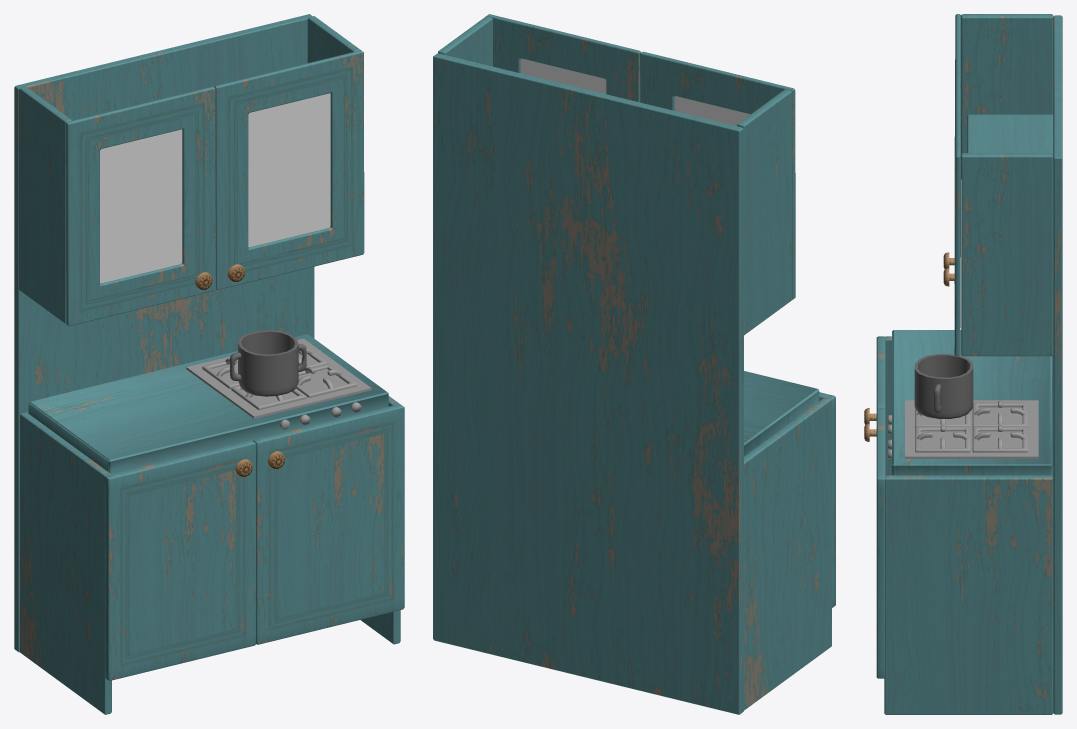
The model's file is Stove.fbx.
3 renders of one model, left to right at view 1: azimuth 30°, elevation 25°; view 2: azimuth 150°, elevation 25°; view 3: azimuth 270°, elevation 25°, orthographic. The views are drawn at different scales.
Parts seen in each view (by area): view 1: Cabinet_FrontA.004, Cabinet_FrontGlass_A.005, Cabinet_Back_A.006, Cabinet_Side_B.005, Cabinet_Shelf_A.004, Cabinet_Side_C.005, Cube.004, Cube, Cabinet_Side_C.006, Cabinet_Side_B.006, Cube.001; view 2: Cabinet_Back_A.006, Cabinet_Side_B.005, Cabinet_FrontGlass_A.005, Cabinet_Side_C.005, Cabinet_Shelf_A.004, Cabinet_Side_C.006, Cabinet_FrontA.004; view 3: Cabinet_Side_B.006, Cabinet_Side_C.006, Cabinet_Shelf_A.004, Cabinet_Side_C.005, Cabinet_Back_A.006, Cube, Cube.004, Cabinet_Shelf_B.005, Cabinet_FrontA.004, Cabinet_FrontGlass_A.005, Cabinet_Side_B.005, Cube.001 (+3 smaller).
Part boxes in pixels (x1=…): Cabinet_FrontA.004: x1=104, y1=404, x2=404, y2=680; Cabinet_FrontGlass_A.005: x1=66, y1=50, x2=364, y2=326; Cabinet_Back_A.006: x1=14, y1=14, x2=314, y2=652; Cabinet_Side_B.005: x1=20, y1=412, x2=111, y2=714; Cabinet_Shelf_A.004: x1=28, y1=334, x2=388, y2=474; Cabinet_Side_C.005: x1=19, y1=86, x2=71, y2=323; Cube.004: x1=230, y1=330, x2=306, y2=396; Cube: x1=186, y1=338, x2=371, y2=418; Cabinet_Side_C.006: x1=307, y1=16, x2=360, y2=62; Cabinet_Side_B.006: x1=361, y1=396, x2=400, y2=644; Cube.001: x1=296, y1=363, x2=356, y2=397; Cabinet_Back_A.006: x1=433, y1=53, x2=743, y2=714; Cabinet_Side_B.005: x1=744, y1=397, x2=831, y2=710; Cabinet_FrontGlass_A.005: x1=486, y1=14, x2=795, y2=299; Cabinet_Side_C.005: x1=737, y1=89, x2=792, y2=335; Cabinet_Shelf_A.004: x1=744, y1=371, x2=819, y2=456; Cabinet_Side_C.006: x1=438, y1=16, x2=492, y2=66; Cabinet_FrontA.004: x1=819, y1=392, x2=835, y2=607; Cabinet_Side_B.006: x1=884, y1=475, x2=1053, y2=714; Cabinet_Side_C.006: x1=961, y1=153, x2=1053, y2=356; Cabinet_Shelf_A.004: x1=892, y1=330, x2=1051, y2=475; Cabinet_Side_C.005: x1=961, y1=14, x2=1053, y2=153; Cabinet_Back_A.006: x1=1053, y1=15, x2=1062, y2=714; Cube: x1=905, y1=400, x2=1038, y2=458; Cube.004: x1=914, y1=354, x2=973, y2=418; Cabinet_Shelf_B.005: x1=967, y1=114, x2=1053, y2=153; Cabinet_FrontA.004: x1=876, y1=336, x2=885, y2=678; Cabinet_FrontGlass_A.005: x1=954, y1=14, x2=961, y2=356; Cabinet_Side_B.005: x1=885, y1=336, x2=1053, y2=476; Cube.001: x1=915, y1=425, x2=970, y2=452.
Bounding box in the file's own units: 210 × 381 × 123.
